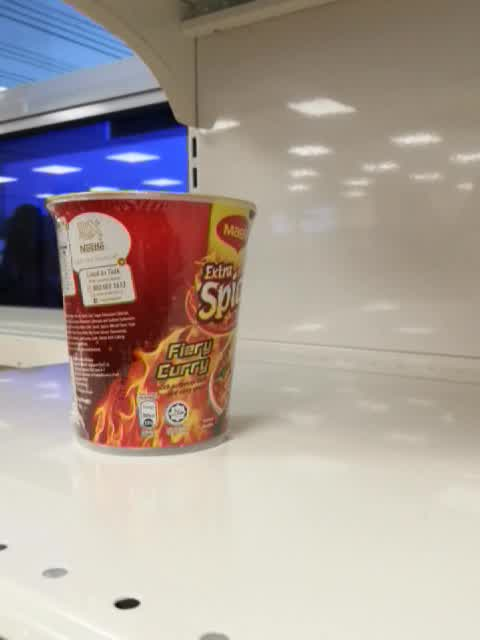maggi: (42, 190, 258, 458)
